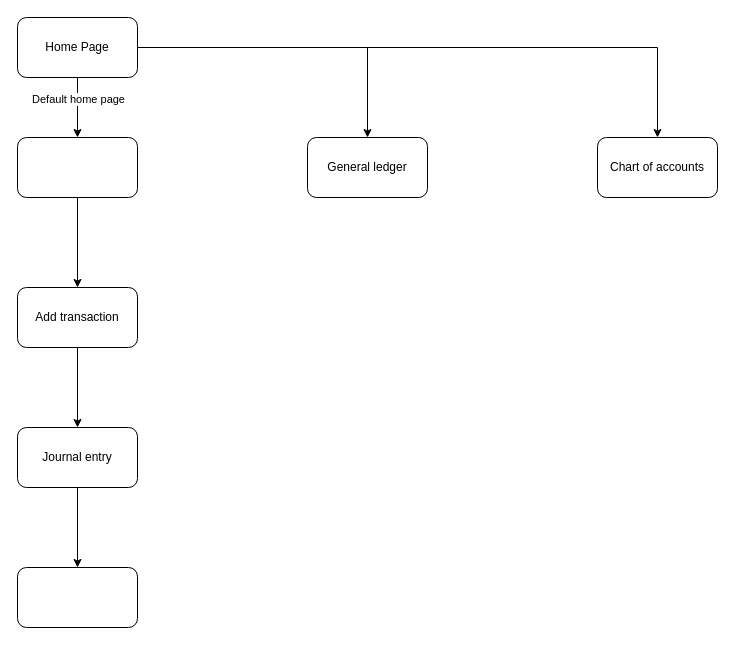
Image size: 735x645. Some labels were removed from this diagram. The centre of each missing label's shape, as x and y in pixels:
"Confirm the entries" goes at pixel 77 597.
"General journal" goes at pixel 77 167.
